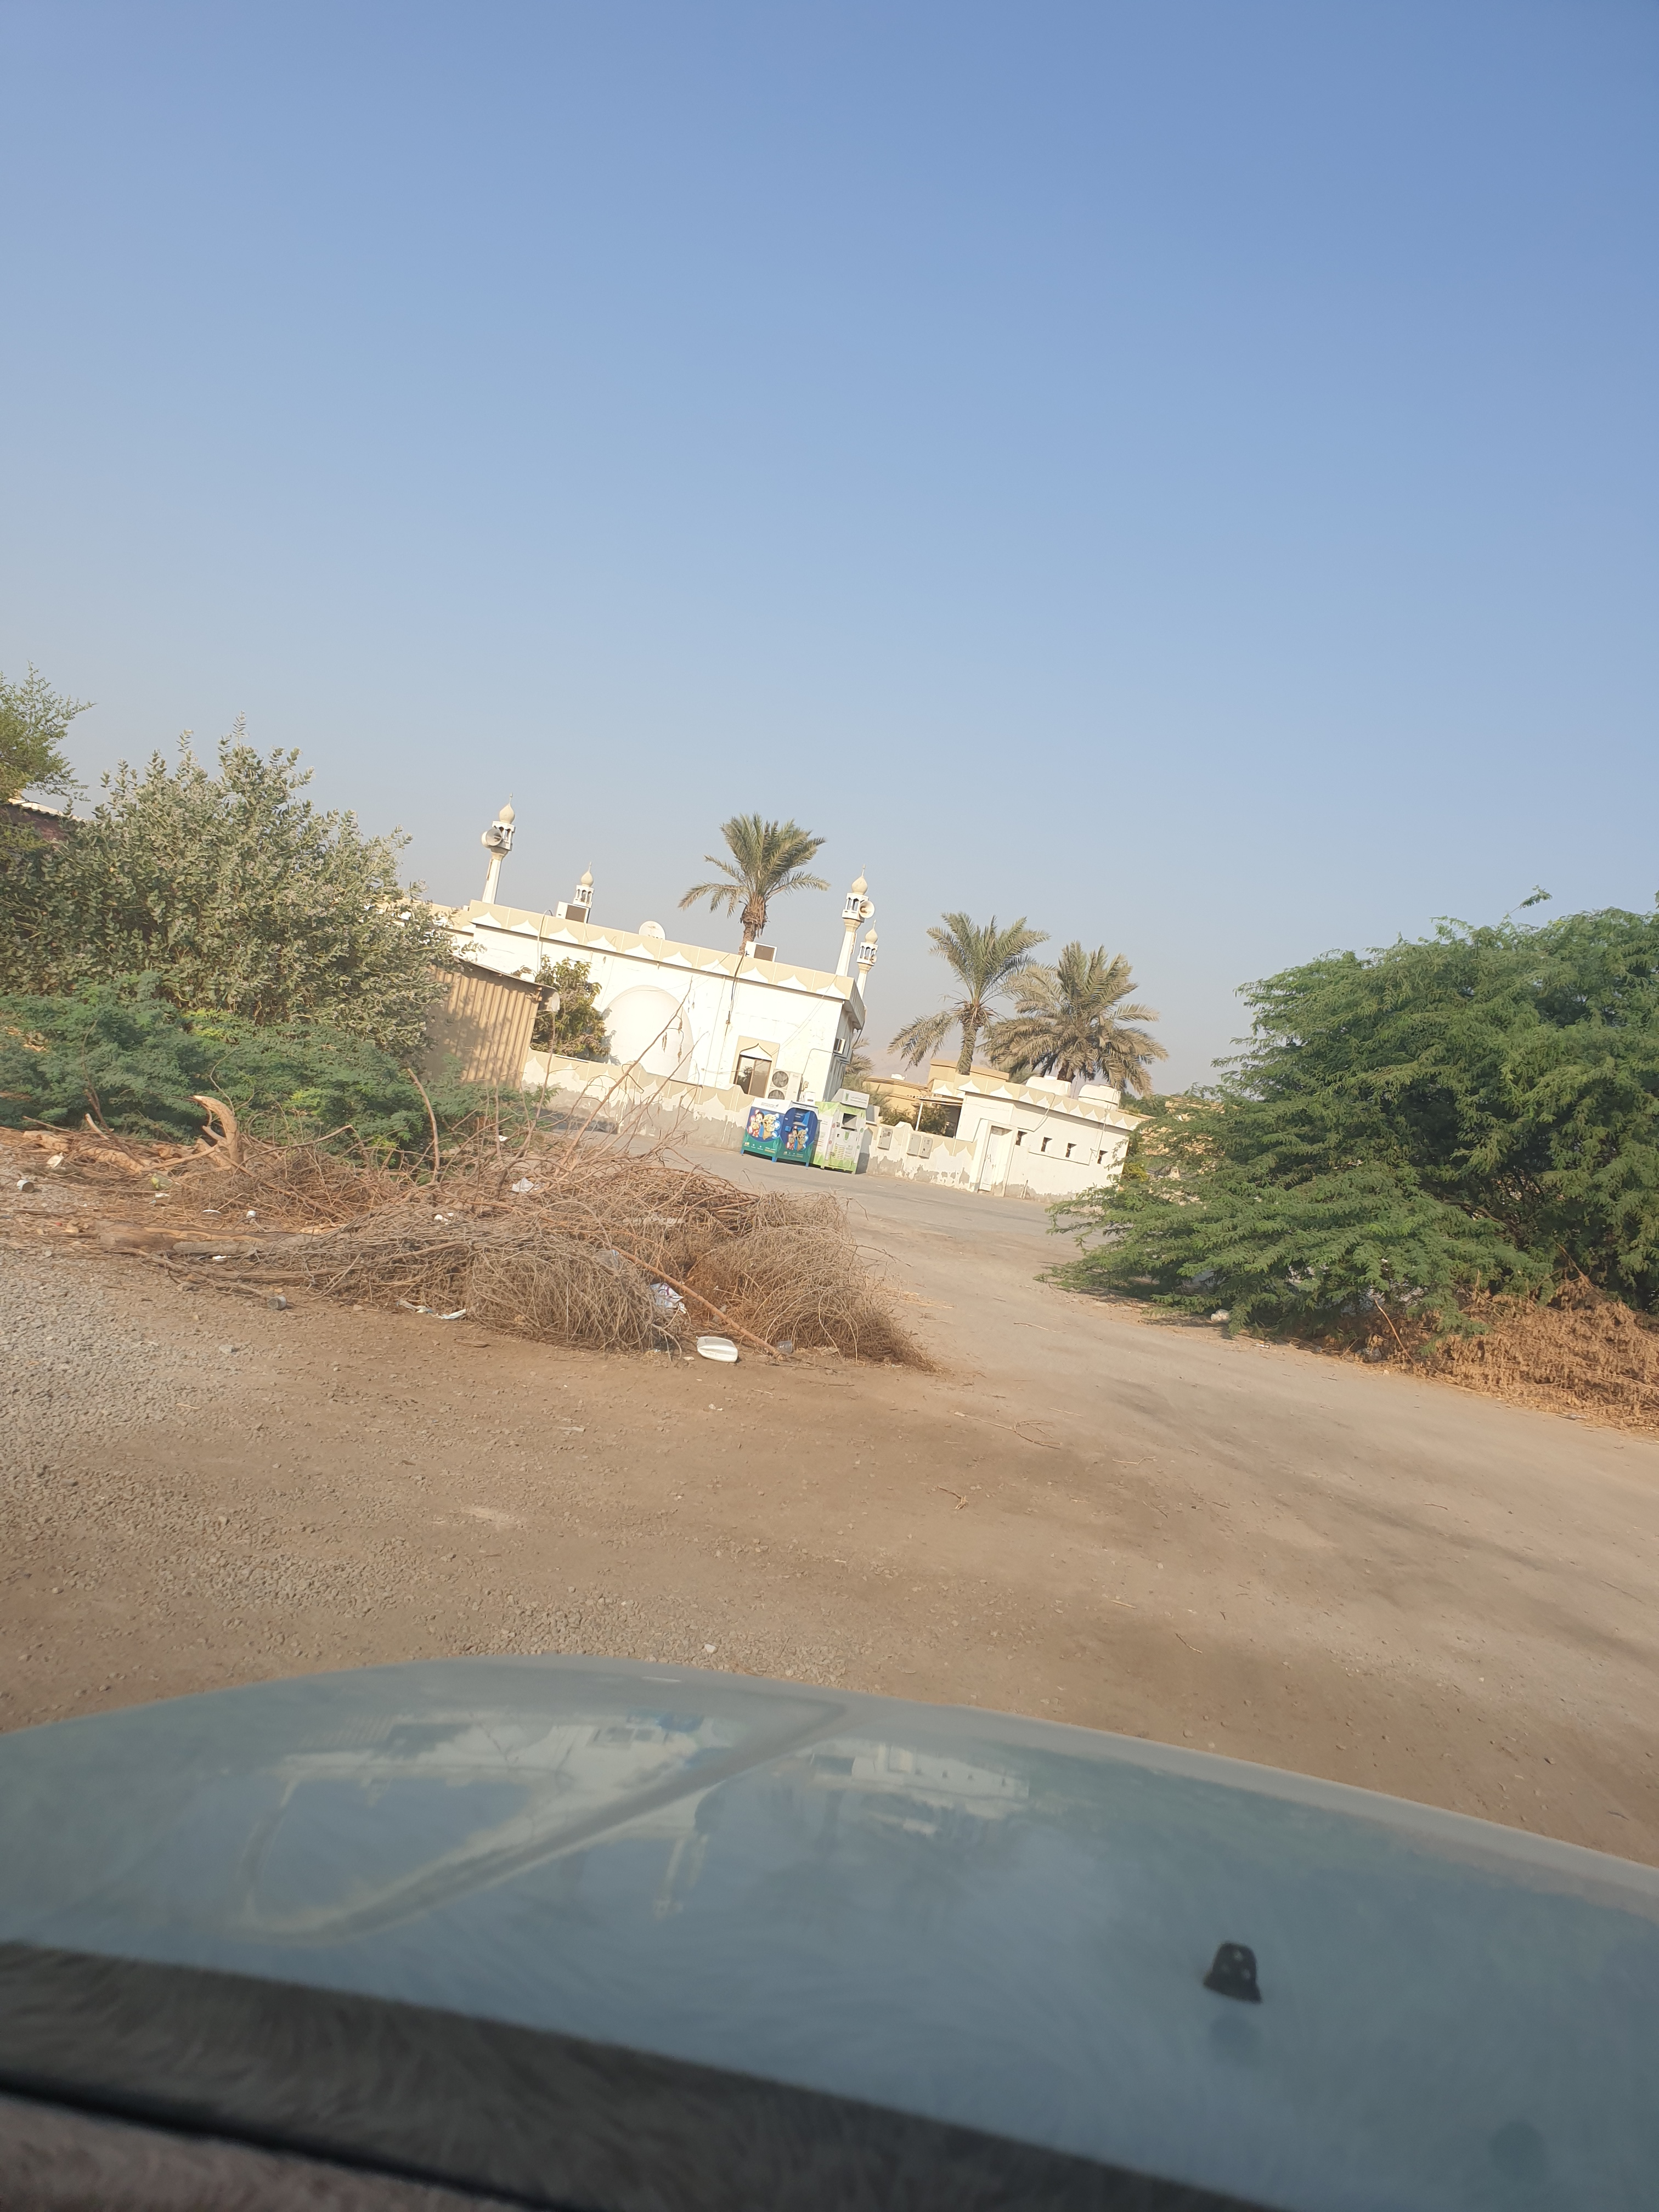fallen_trees: (112, 1158, 871, 1379), (457, 1217, 978, 1406), (601, 1200, 1014, 1371), (64, 1195, 464, 1353), (281, 1228, 687, 1372)
